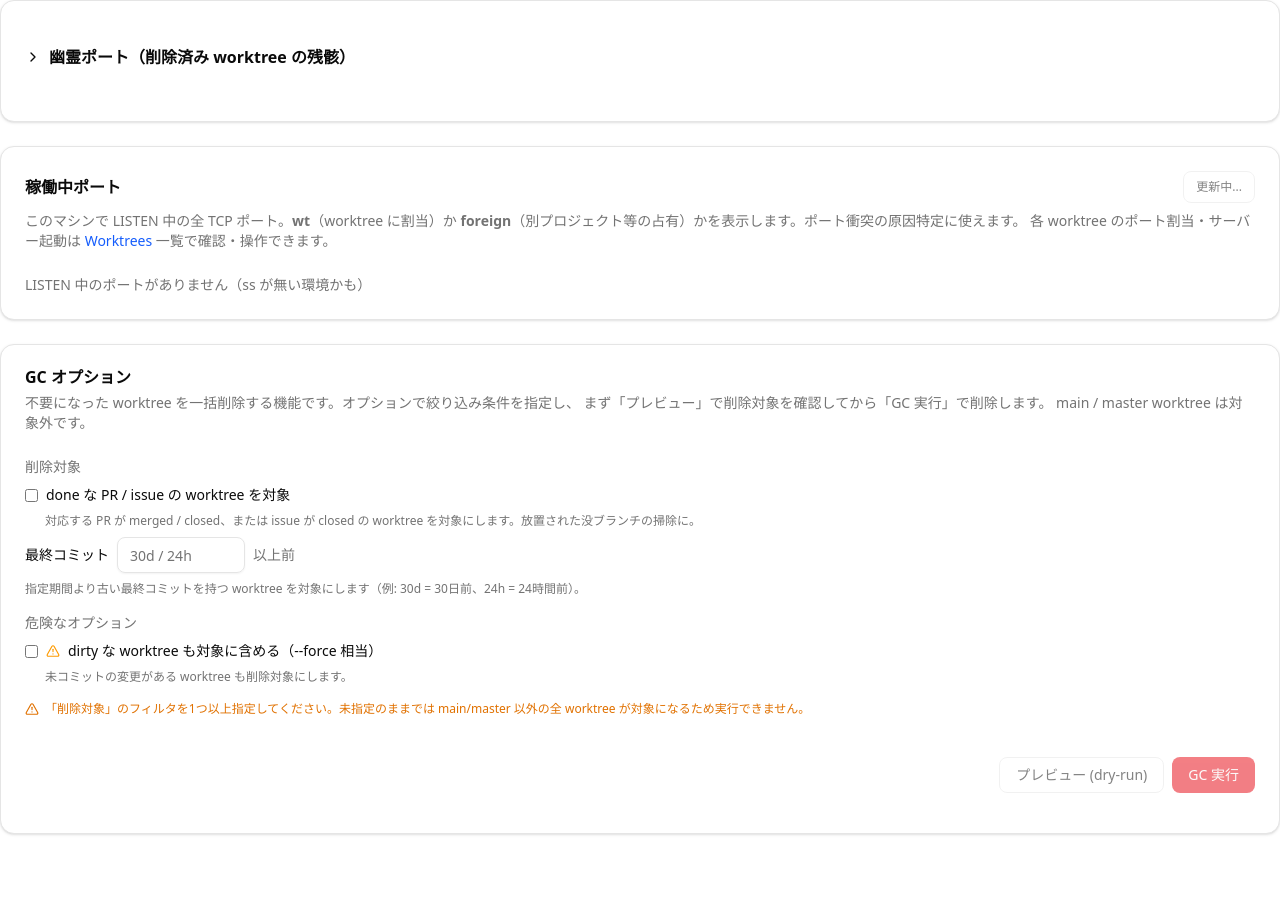
Scenario: MaintenancePage (Ports + GC combined) › runs a GC dry-run preview and shows the output
What coordinates should you click on to do the following:
click the checkbox labelled "done な PR / issue の worktree を対象"
I would click on:
 (32, 495)
Its box is [25,488,38,502].
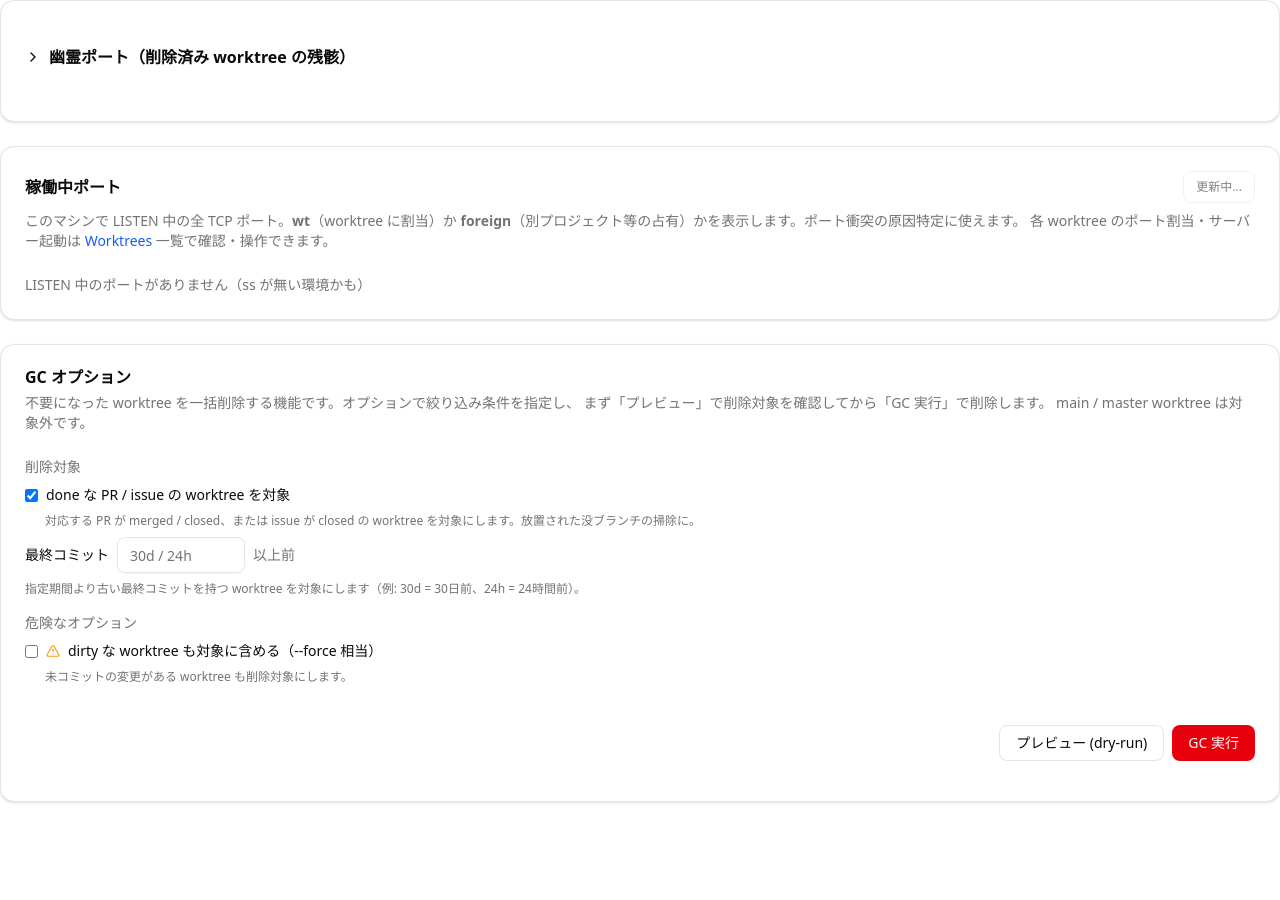
What coordinates should you click on to do the following:
click the button "プレビュー (dry-run)"
I would click on:
 (1082, 743)
Its box is [999,725,1164,761].
(page scrolled)
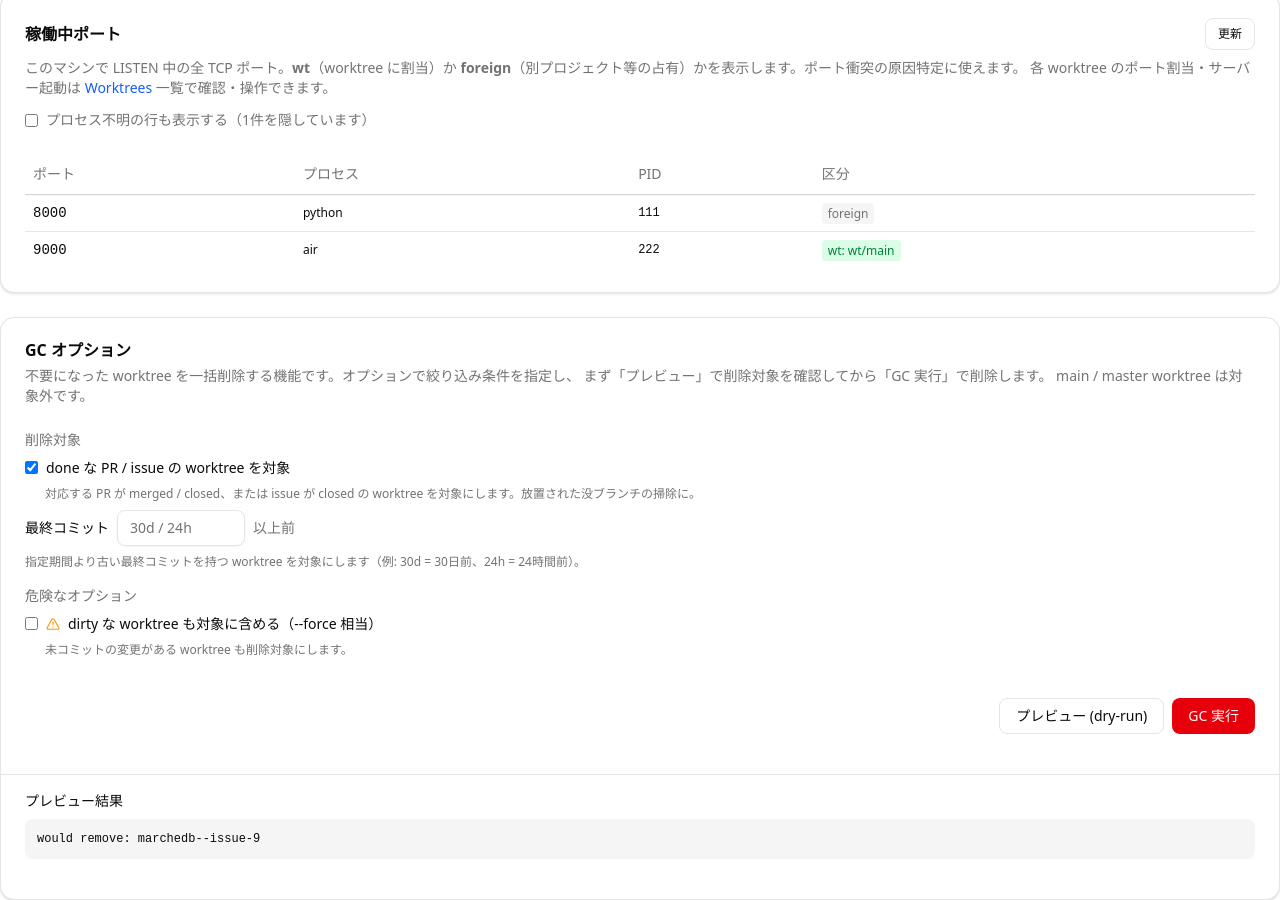
Expected: the text "would remove: marchedb--issue-9" is shown, [25,818,1255,858]
Expected: the heading "プレビュー結果" is shown, [25,790,123,810]
